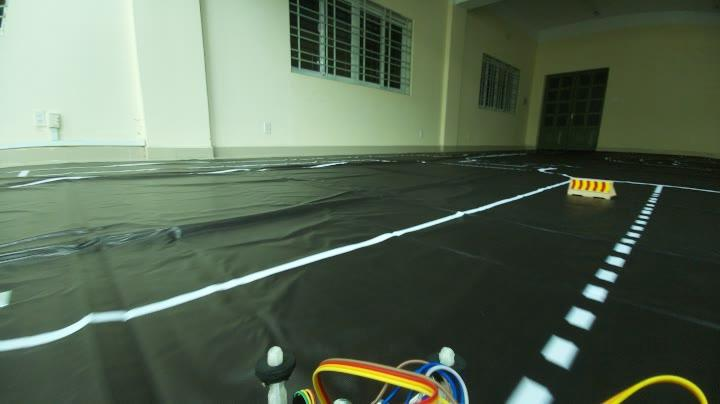roadblock: (563, 173, 616, 202)
